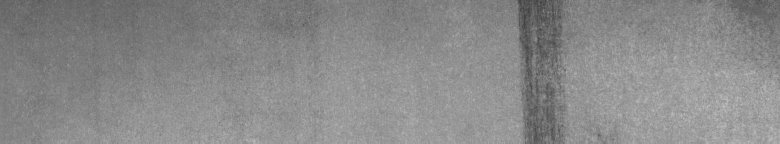ka: (512, 4, 564, 136)
